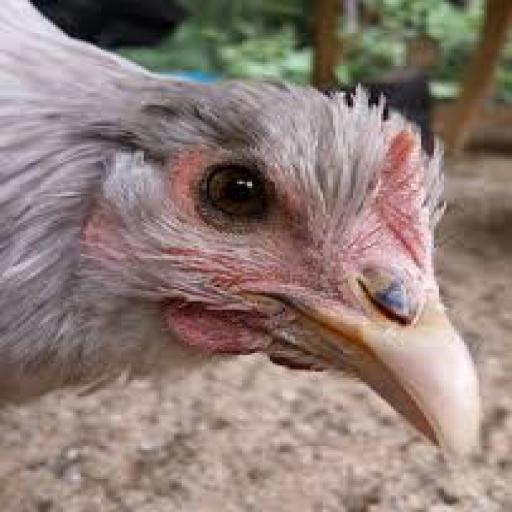healthy: (149, 118, 400, 304)
